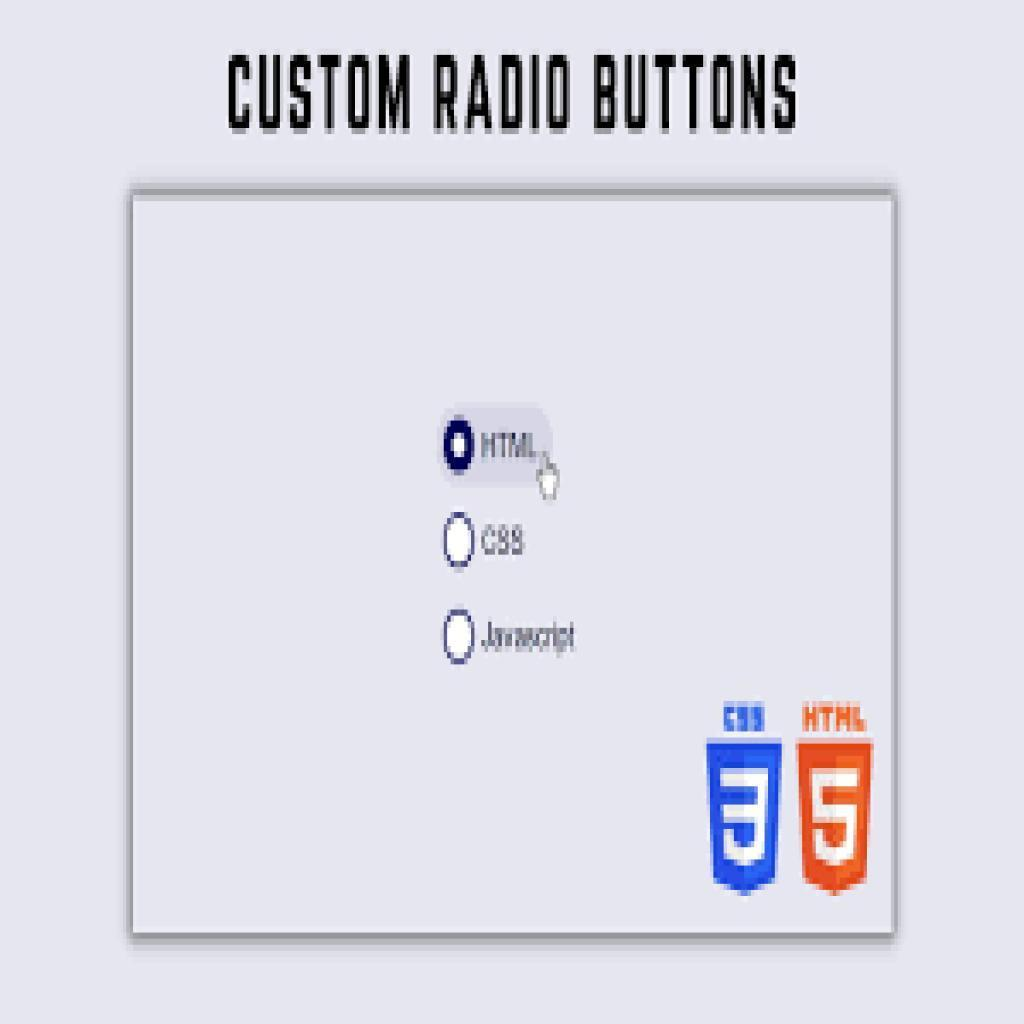label: (478, 620, 580, 658), (480, 427, 540, 466), (480, 524, 530, 557)
radio: (441, 510, 480, 578), (442, 413, 480, 479), (441, 608, 478, 668)
